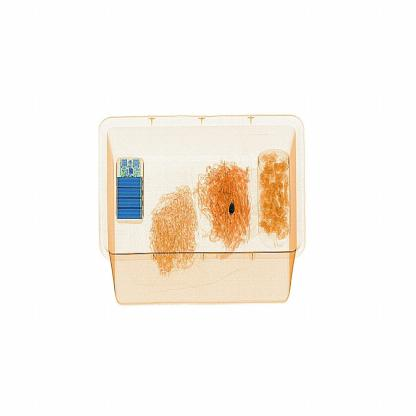wrench: (220, 195, 242, 229)
